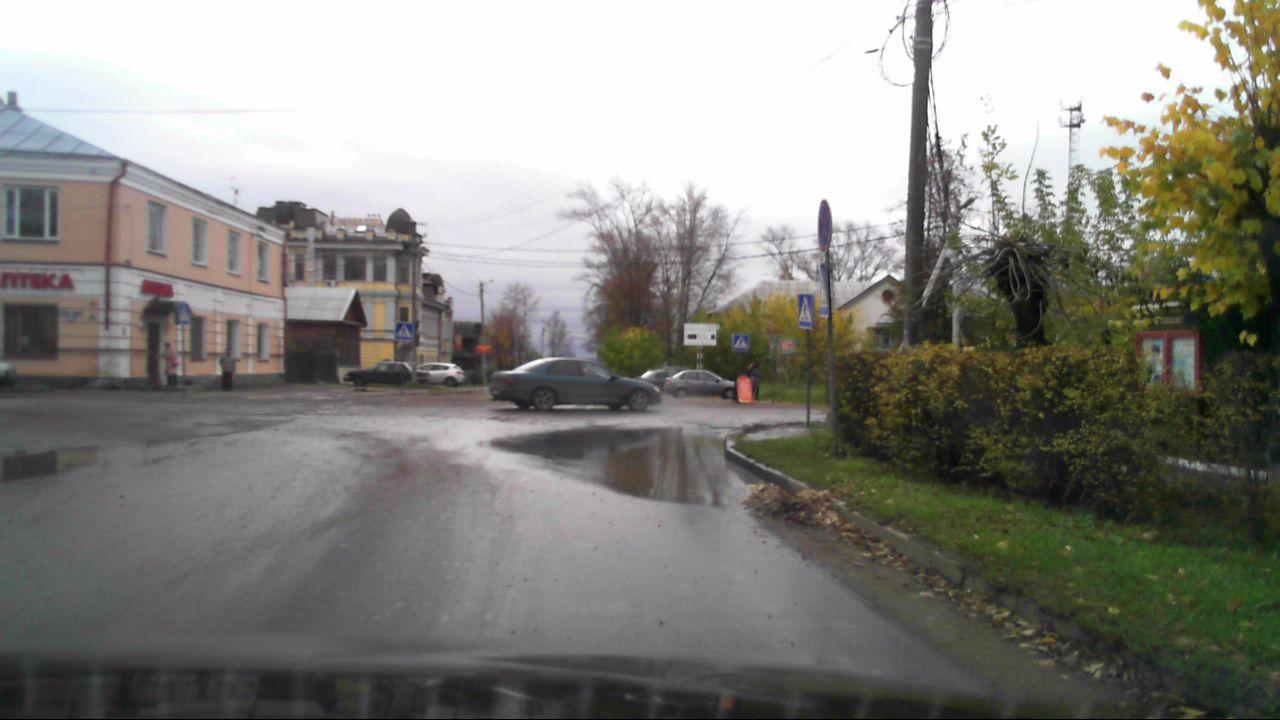road_sign: (797, 293, 816, 329), (731, 334, 752, 353)
